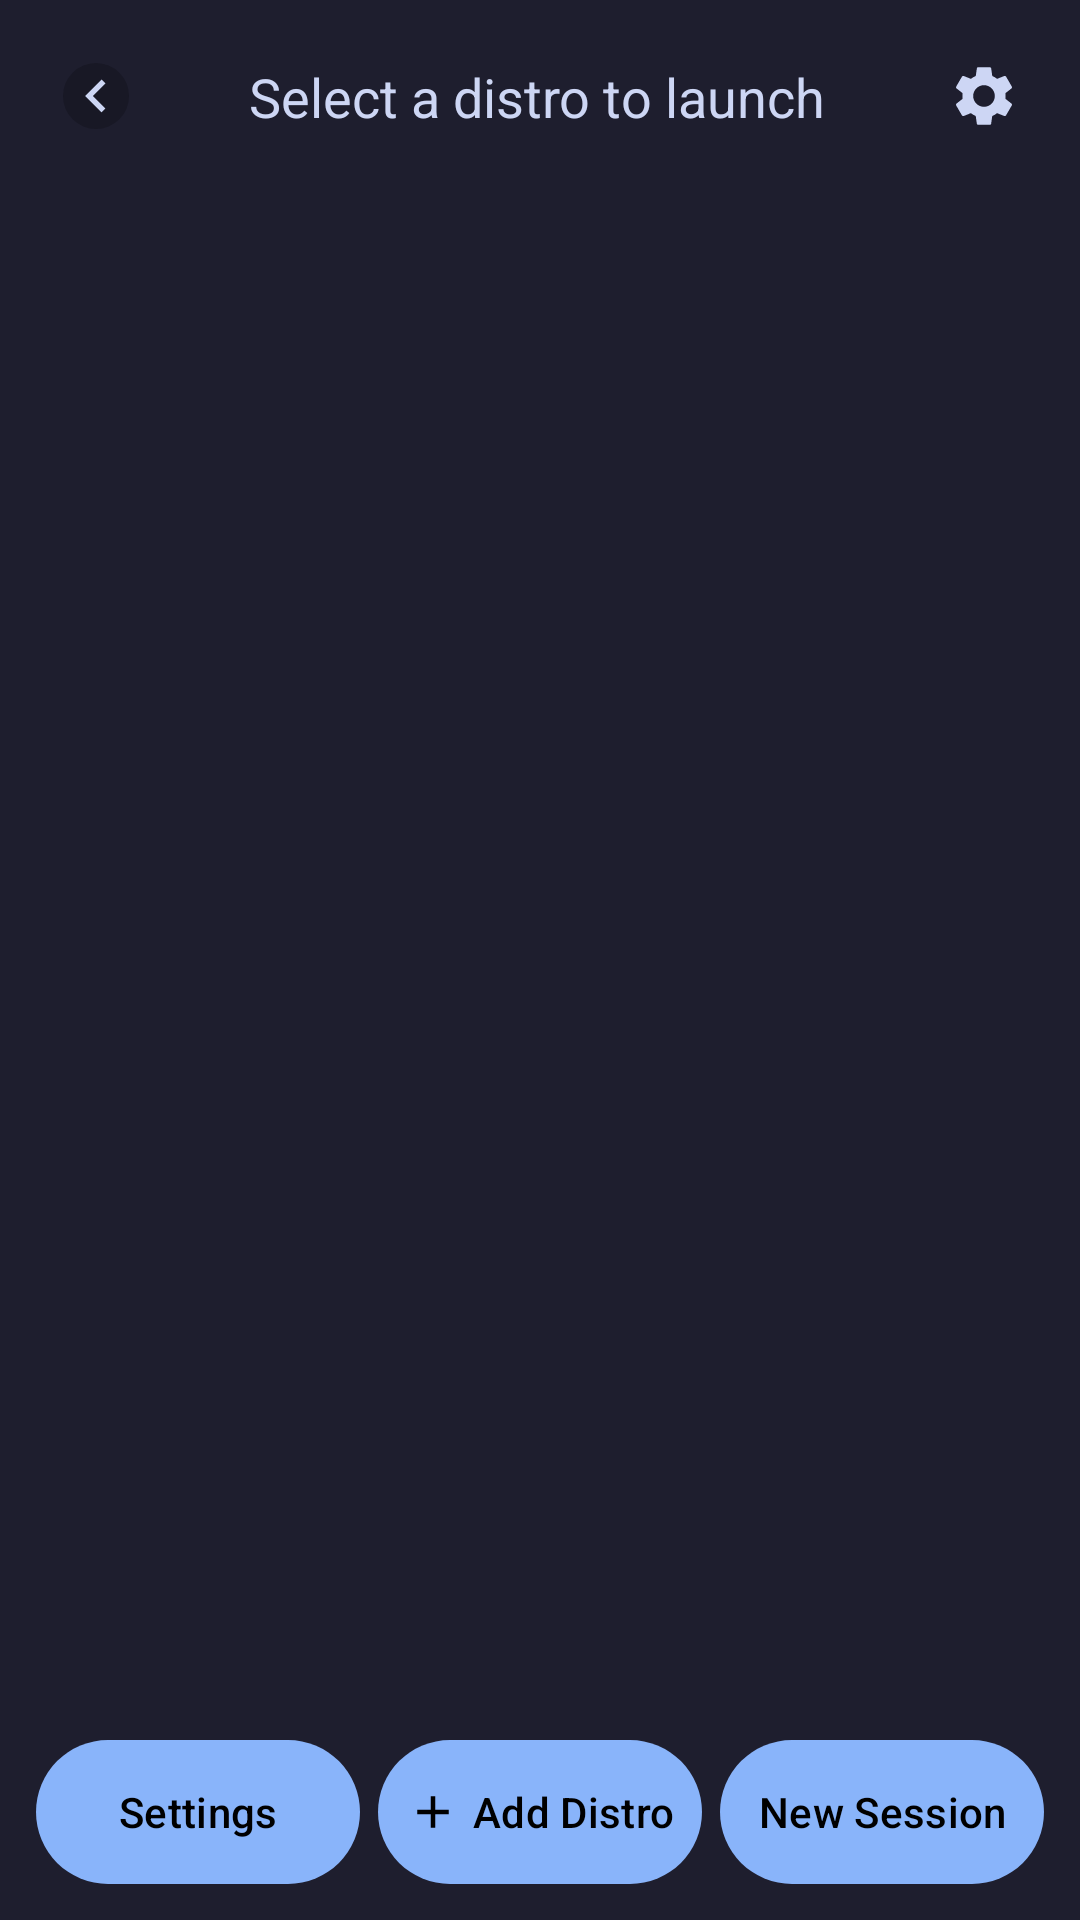

Icons on this 1080 x 1920 Android screen, each with the point to tap as [x,y]:
Back: [96,96]
Settings: [984,96]
